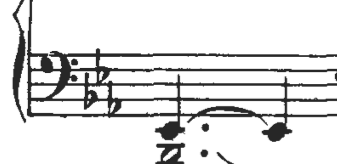bass_clef: (33, 47, 82, 107)
flat: (78, 70, 101, 114), (105, 77, 124, 123), (93, 44, 111, 89)
